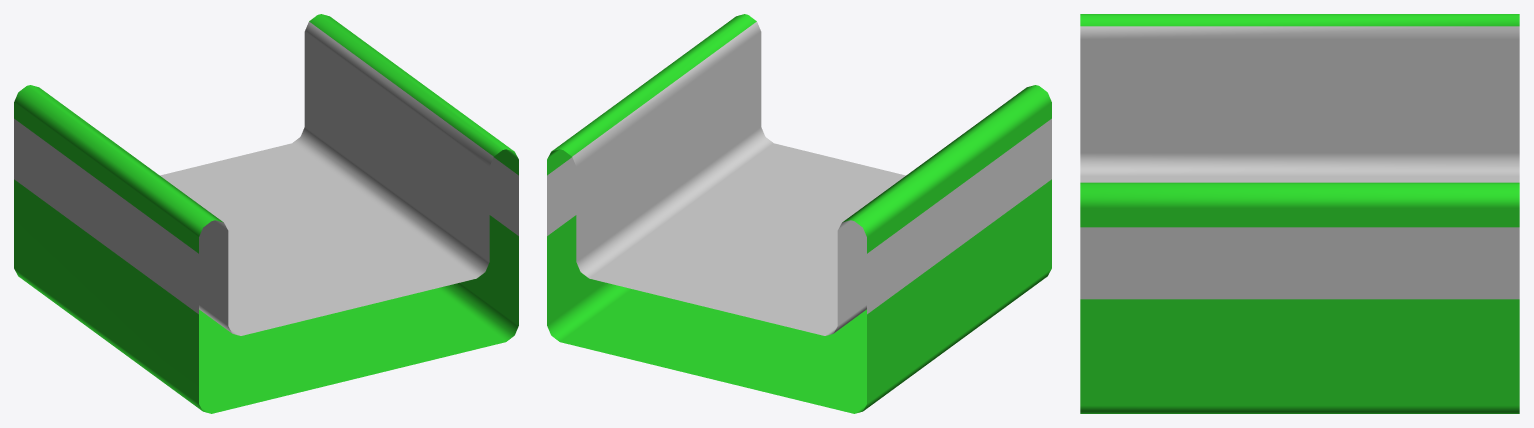
Rendered from ContainerBorderStraight.fbx.
3 views of the same model, side by side, from view 1: azimuth 30°, elevation 25°; view 2: azimuth 150°, elevation 25°; view 3: azimuth 270°, elevation 25° (orthographic). The views are drawn at different scales.
Visible parts, largest first — view 1: ContainerBorderStraight; view 2: ContainerBorderStraight; view 3: ContainerBorderStraight.
Part boxes in pixels (box(x1,y1,x2,y2)): ContainerBorderStraight: box(14, 14, 518, 413); ContainerBorderStraight: box(547, 14, 1051, 413); ContainerBorderStraight: box(1080, 14, 1519, 413).
Size of the model in its own units: 50 by 28.78 by 50.
